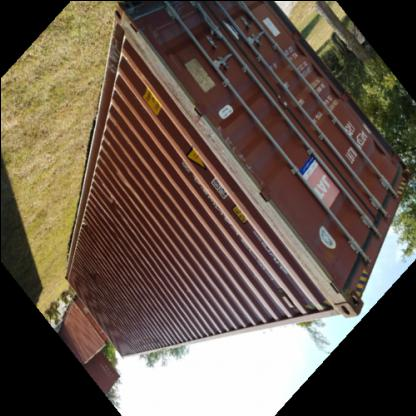Damage: (213, 131, 262, 195), (128, 332, 162, 354), (104, 194, 128, 218), (86, 267, 104, 291)
